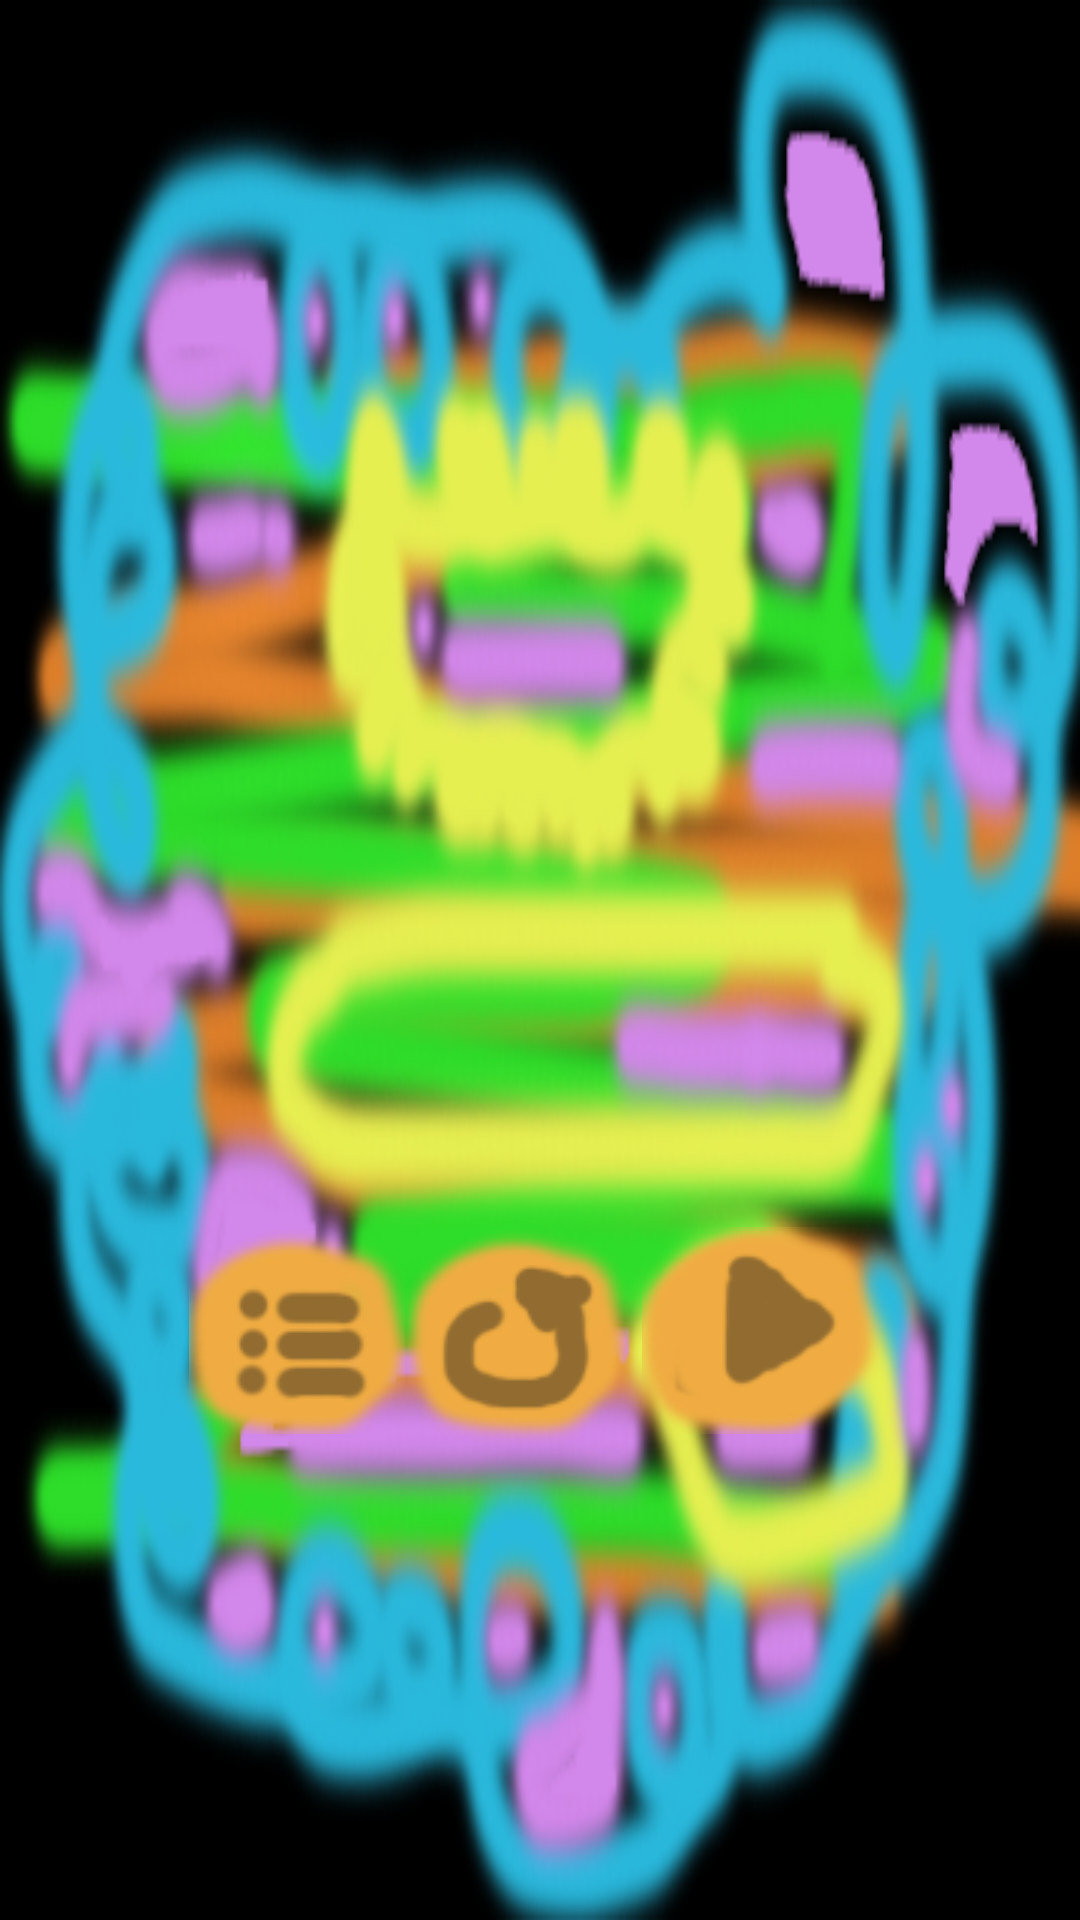

Where to tap for icons on this 1080px x 1920px app screen, as (x,y):
restartbutton: (523,1336)
selectlevelbutton: (297,1330)
